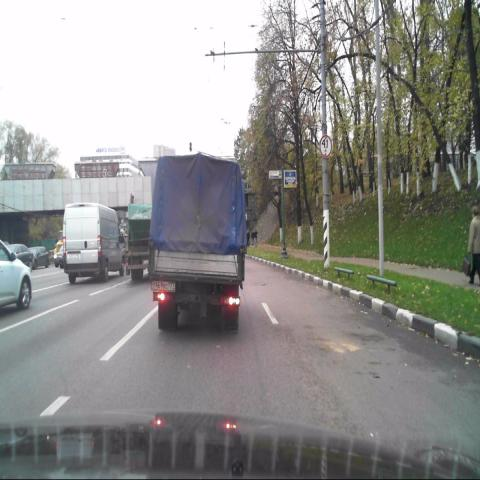3_13: (318, 134, 332, 159)
